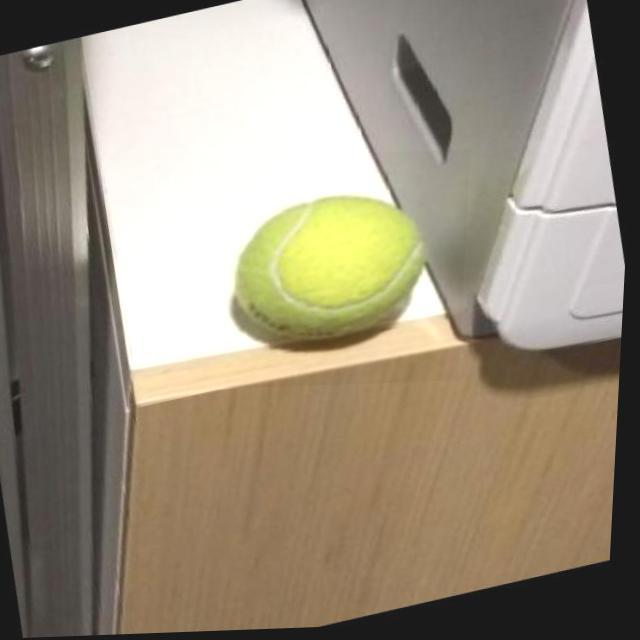-: (191, 153, 472, 392)
